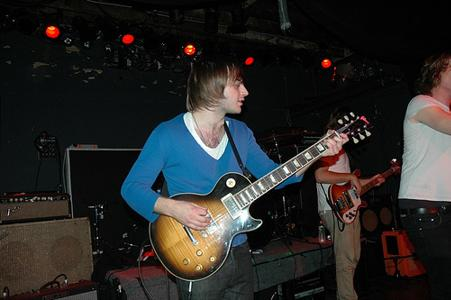person: (119, 52, 351, 300)
